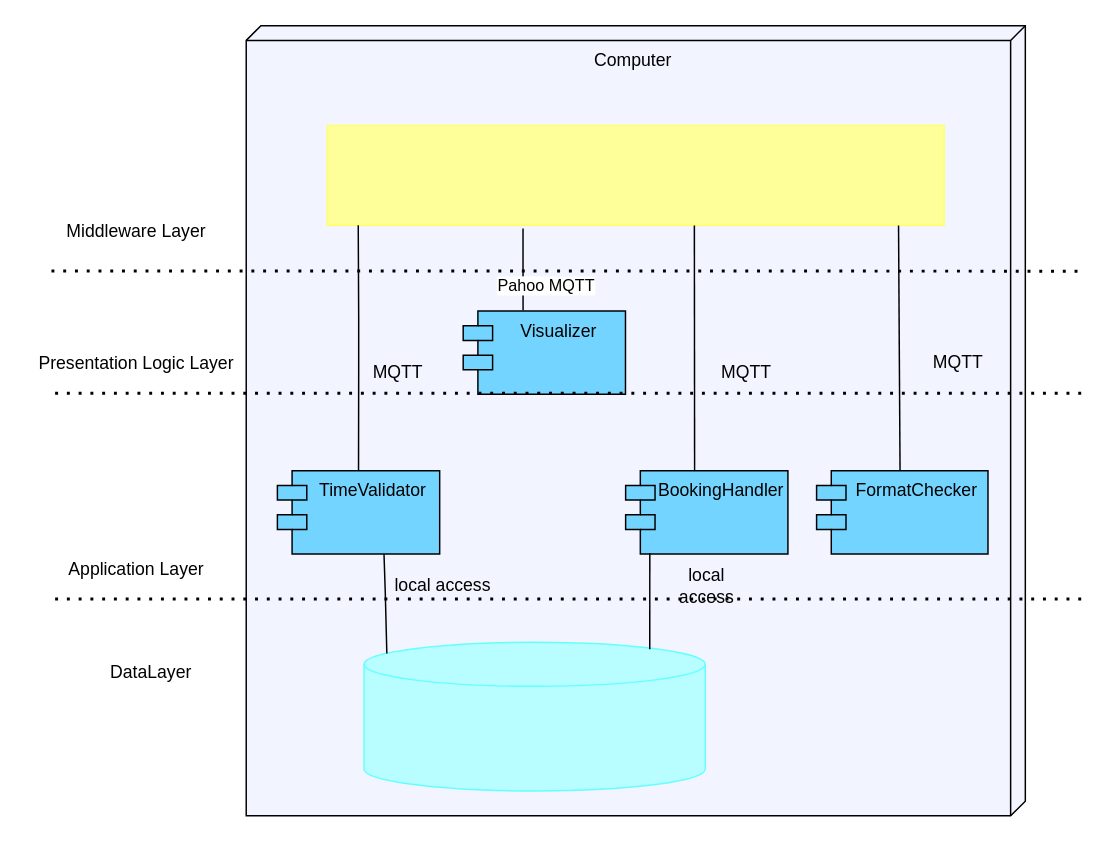
The diagram is 1116 pixels wide and 842 high, and some of its shapes have lost their labels. Each missing label, with the box of its shape:
MQTT Hive broker: (326, 124, 944, 225)
registry: (363, 641, 705, 791)
